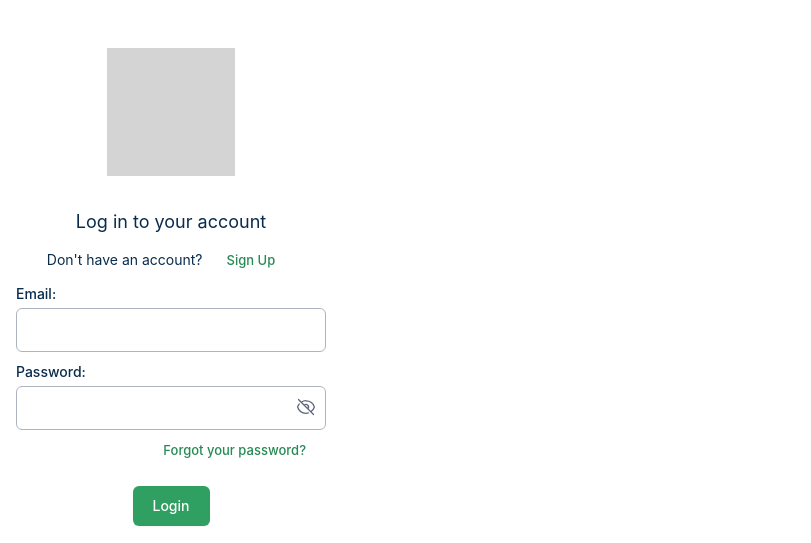
Test case: VerdocsAuthComponent › shows a toast on failed logins
Step 1. Type "test@example.com" into the field labelled "Email:" → coordinates (171, 330), box [16,308,326,352]
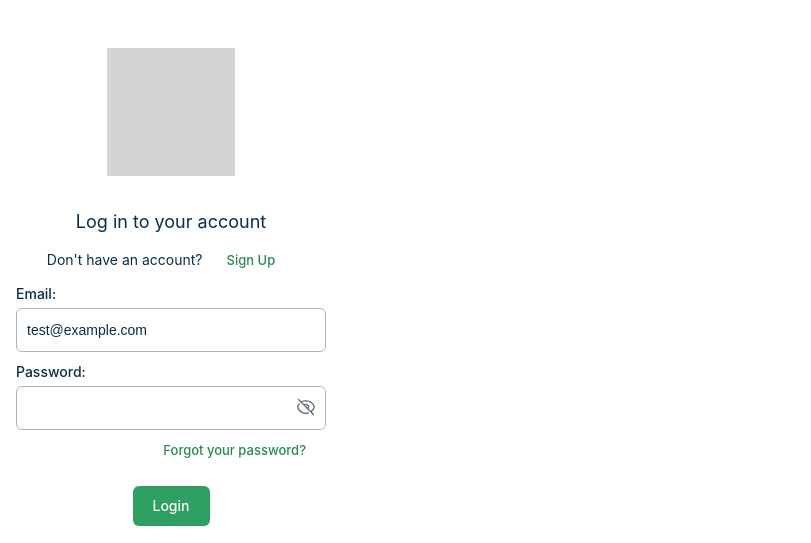
Step 2. Type "wrong" into the password field labelled "Password:" → coordinates (171, 408), box [16,386,326,430]
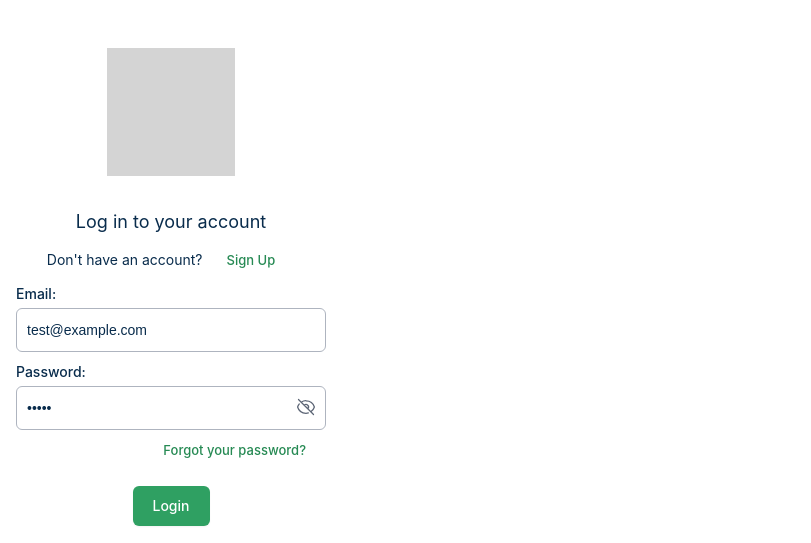
Step 3. Submit the form, box [16,284,326,526]
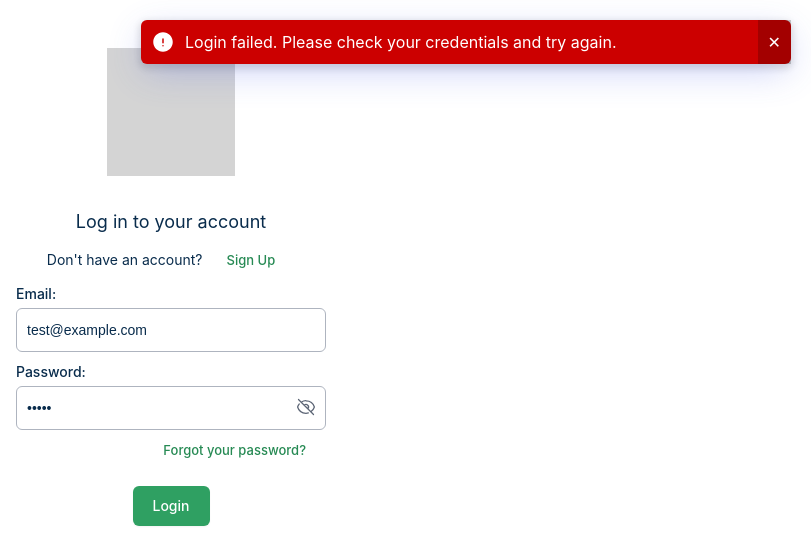
Now the element showing "Login failed. Please check your credentials and try again. ✕" is shown, box [141,20,791,64]
